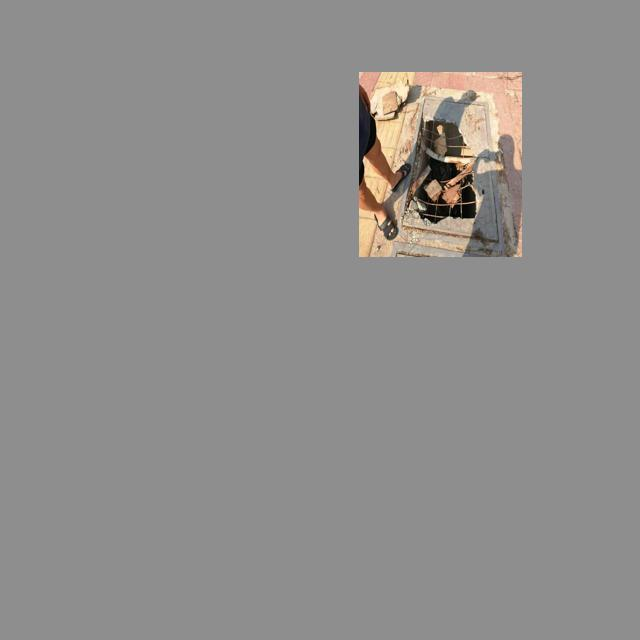broke: (399, 94, 496, 242)
